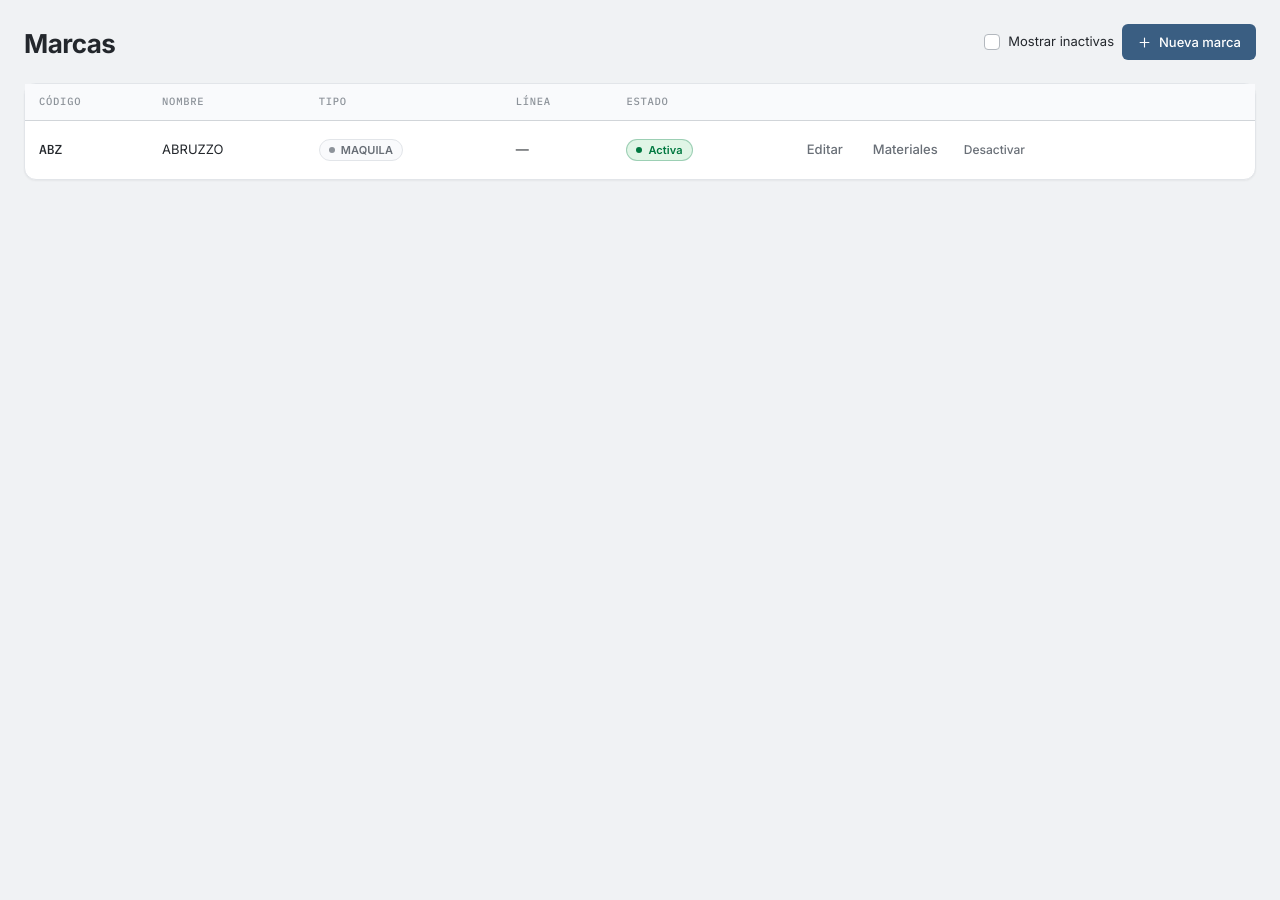
MarcasListComponent › materiales propios de la marca › "Materiales" abre el panel de la marca y lista sus reemplazos
Step 1. Click the button "Materiales" → point(905, 150), box [858,132,953,168]
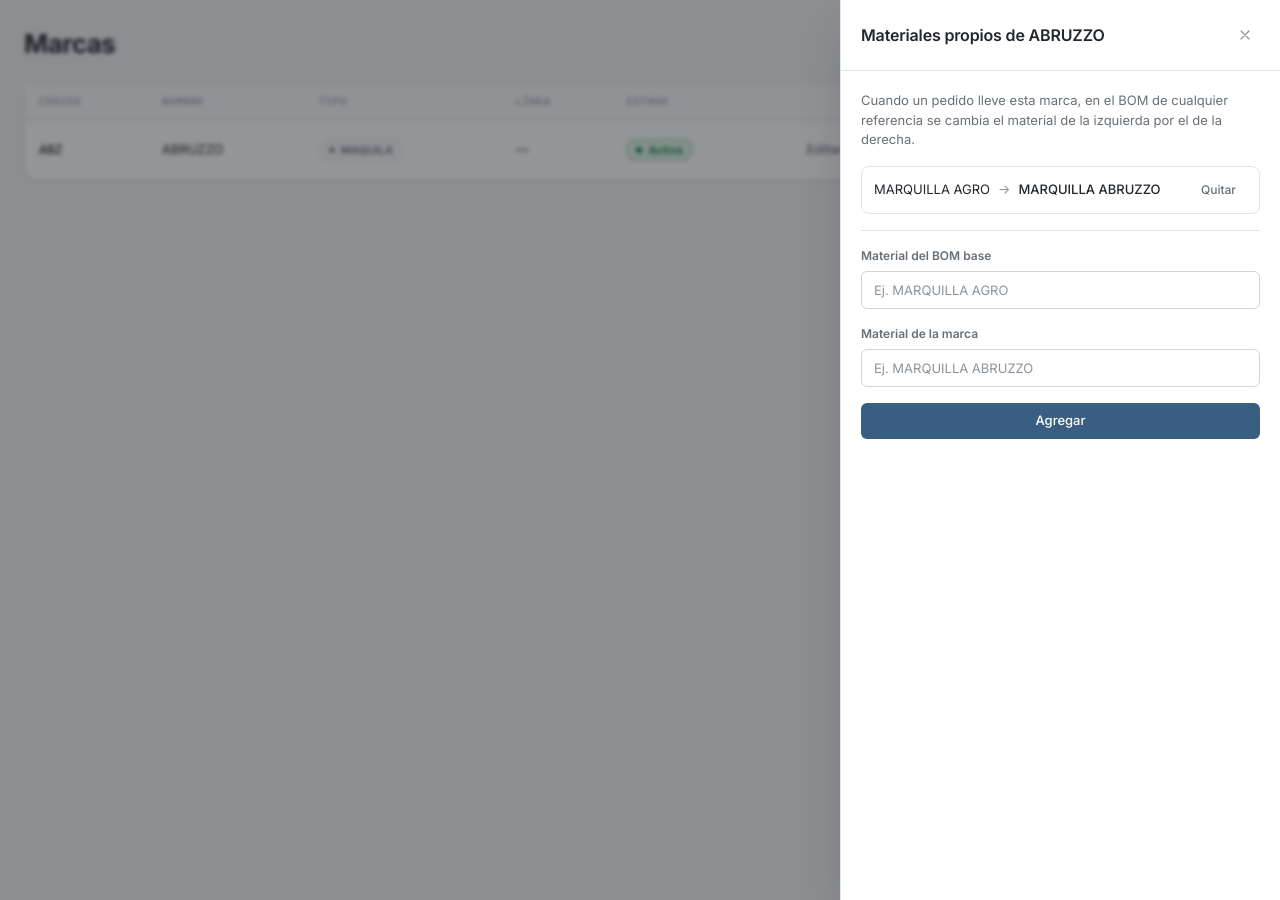
Check: the text "Materiales propios de ABRUZZO" is shown, box [861,25,1104,45]
Check: the text "en el BOM de cualquier referencia se cambia el material de la izquierda por el de la derecha" is shown, box [861,92,1228,147]
Check: the text "MARQUILLA AGRO" is shown, box [874,180,990,199]
